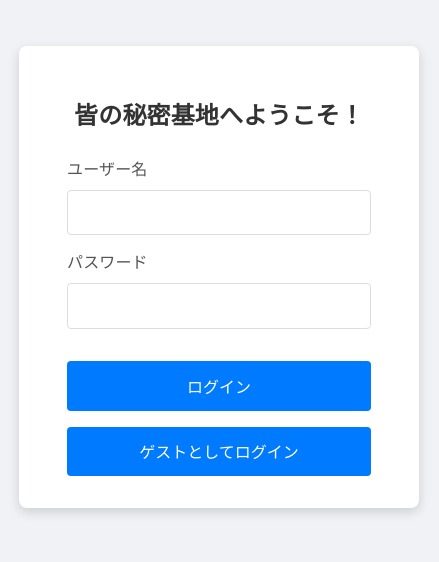
Test: Login Component › Failure Cases › should display error message for empty username and password fields
Note: Click login button without filling fields
Click the button "ログイン" at [219, 386], box [67,361,371,411]
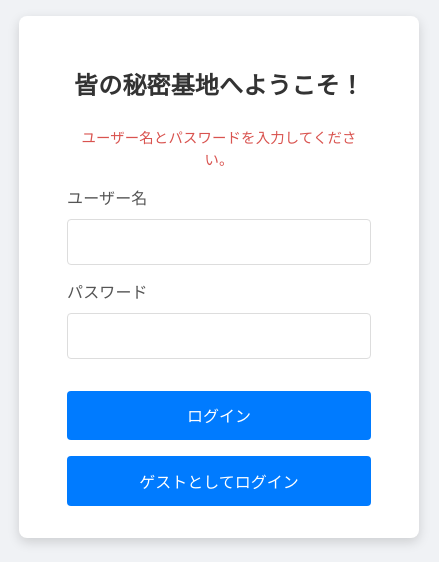
Result: the text "ユーザー名とパスワードを入力してください。" is shown at [67,128,371,171]
